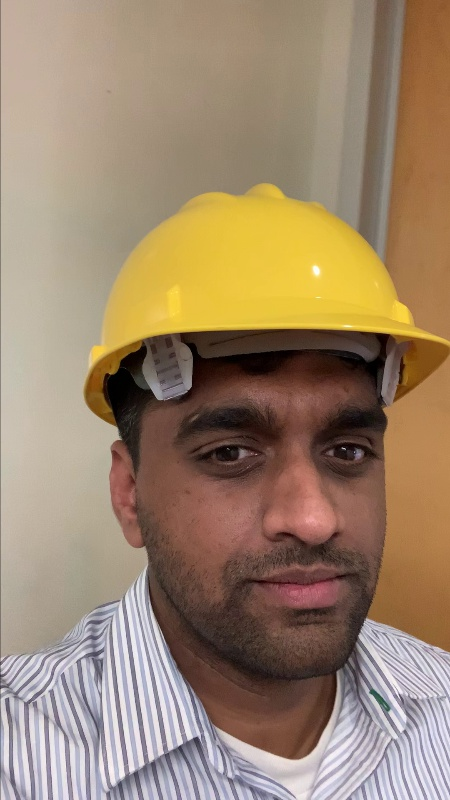helmet: (81, 187, 445, 406)
